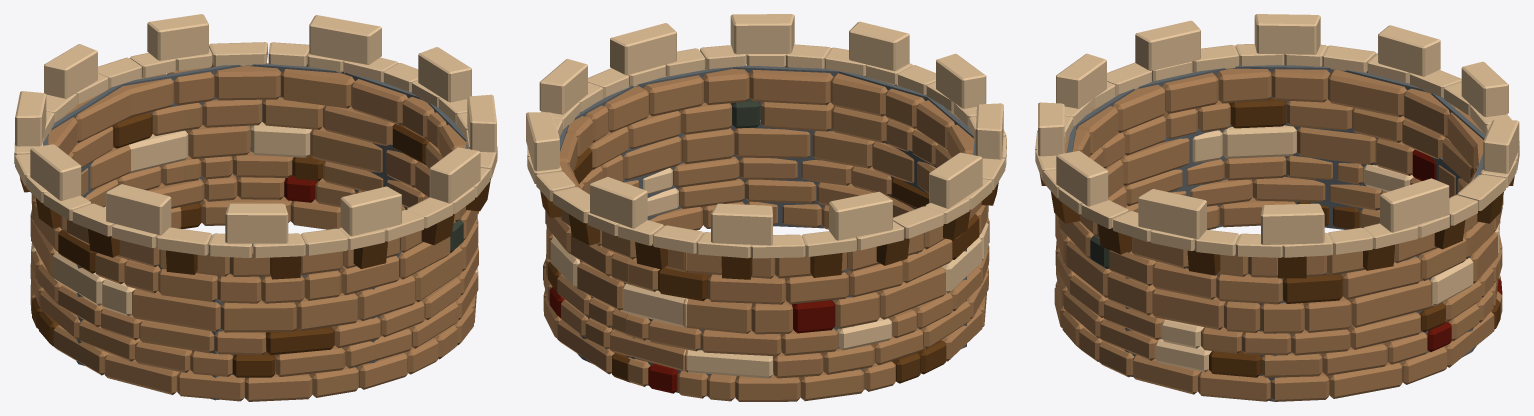
The model's file is top-section-with-crenellation.glb.
3 views of the same model, side by side, from view 1: azimuth 30°, elevation 25°; view 2: azimuth 150°, elevation 25°; view 3: azimuth 270°, elevation 25° (orthographic).
Parts seen in each view (by area): view 1: main-wall.112, top-section-2.002, top-section-1.001, grout-wall.004, strut-1.001, strut-11.001, strut-8.001, strut-15.001, strut-12.001; view 2: main-wall.112, top-section-2.002, top-section-1.001, grout-wall.004, strut-6.001, strut-16.001, strut-2.001, strut-10.001, strut-9.001, strut-4.001; view 3: main-wall.112, top-section-2.002, top-section-1.001, grout-wall.004, strut-13.001, strut-5.001, strut-14.001, strut-3.001, strut-7.001, strut-12.001, strut-9.001.
Part boxes in pixels (left/top/right/bottom): main-wall.112: left=30, top=63, right=478, bottom=401; top-section-2.002: left=15, top=14, right=496, bottom=243; top-section-1.001: left=14, top=42, right=497, bottom=258; grout-wall.004: left=43, top=63, right=467, bottom=400; strut-1.001: left=353, top=241, right=387, bottom=269; strut-11.001: left=270, top=256, right=300, bottom=279; strut-8.001: left=166, top=250, right=197, bottom=274; strut-15.001: left=88, top=229, right=119, bottom=257; strut-12.001: left=421, top=214, right=454, bottom=245; main-wall.112: left=543, top=69, right=989, bottom=401; top-section-2.002: left=526, top=14, right=1003, bottom=245; top-section-1.001: left=527, top=44, right=1006, bottom=258; grout-wall.004: left=559, top=65, right=975, bottom=396; strut-6.001: left=810, top=253, right=842, bottom=277; strut-16.001: left=721, top=256, right=752, bottom=279; strut-2.001: left=635, top=242, right=667, bottom=269; strut-10.001: left=876, top=238, right=909, bottom=265; strut-9.001: left=568, top=214, right=599, bottom=245; strut-4.001: left=943, top=209, right=970, bottom=240; main-wall.112: left=1054, top=68, right=1503, bottom=401; top-section-2.002: left=1038, top=14, right=1519, bottom=244; top-section-1.001: left=1035, top=44, right=1519, bottom=257; grout-wall.004: left=1066, top=65, right=1485, bottom=401; strut-13.001: left=1187, top=249, right=1220, bottom=275; strut-5.001: left=1098, top=224, right=1131, bottom=254; strut-14.001: left=1363, top=244, right=1394, bottom=270; strut-3.001: left=1278, top=256, right=1306, bottom=278; strut-7.001: left=1434, top=220, right=1465, bottom=249; strut-12.001: left=1051, top=192, right=1079, bottom=223; strut-9.001: left=1477, top=192, right=1503, bottom=223.
Bounding box in the file's own units: 2.15 × 0.9634 × 2.16.
